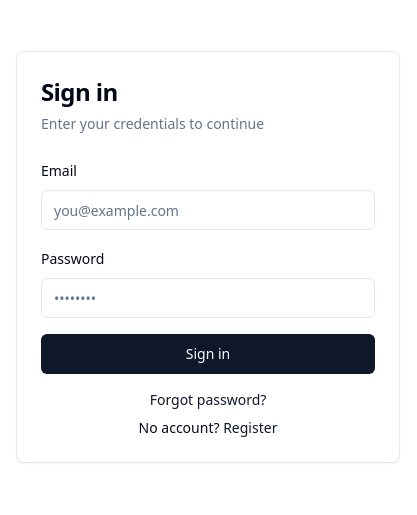
LoginPage › shows error state on 401
Type "a@b.com" into the field labelled "Email".
click(208, 210); type("a@b.com")  # box x1=41 y1=190 x2=375 y2=230
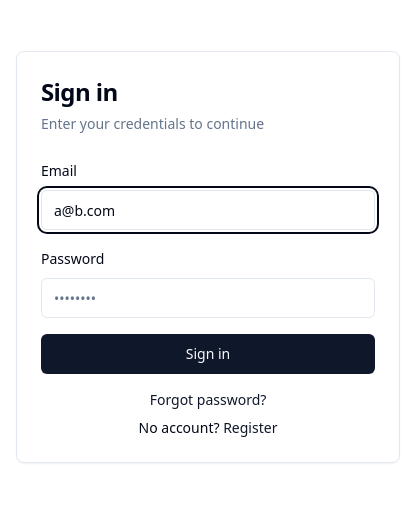
Type "wrong" into the password field labelled "Password".
click(208, 298); type("wrong")  # box x1=41 y1=278 x2=375 y2=318
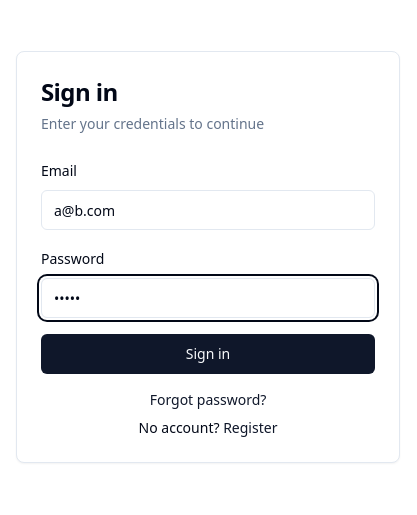
Click the button "Sign in".
click(208, 354)  # box x1=41 y1=334 x2=375 y2=374
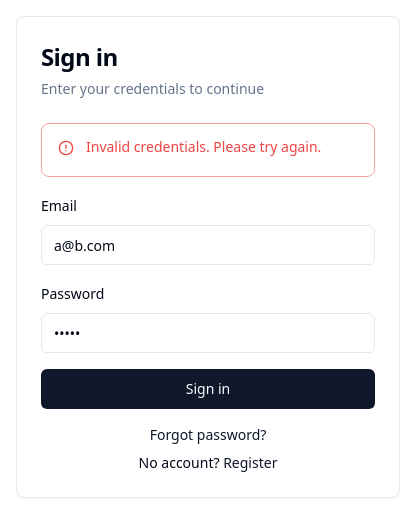
Expected: the message shows "Invalid credentials", x1=86 y1=137 x2=321 y2=156
